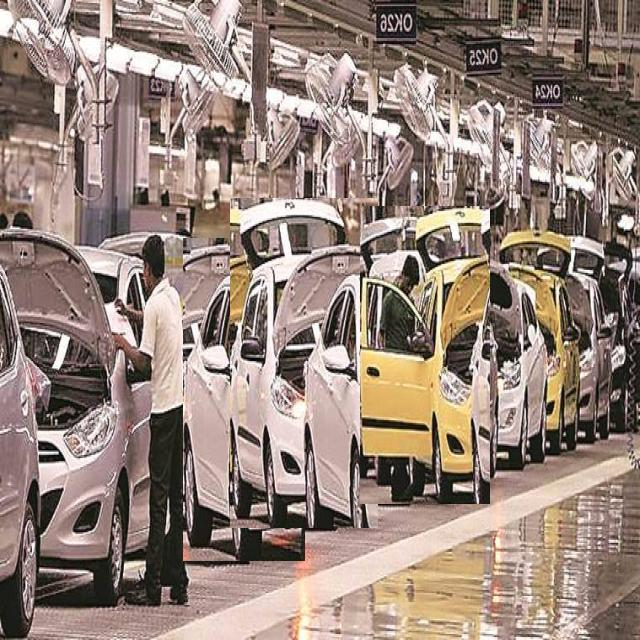accident: (0, 234, 150, 603), (230, 198, 378, 528), (183, 238, 304, 561), (360, 206, 489, 504)
